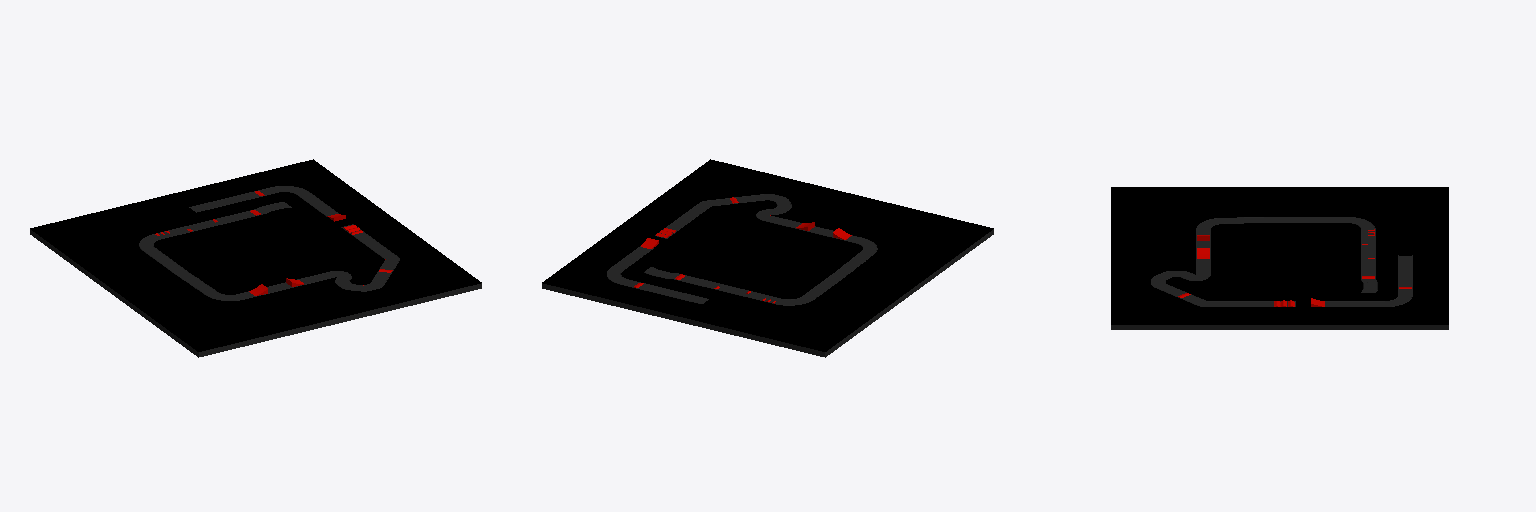
File: track1.obj
The picture shows the model from 3 angles: view 1: azimuth 30°, elevation 25°; view 2: azimuth 150°, elevation 25°; view 3: azimuth 270°, elevation 25°; orthographic projection.
Visible parts, largest first — view 1: LevelMesh_Level_Mesh; view 2: LevelMesh_Level_Mesh; view 3: LevelMesh_Level_Mesh.
Boxes of the visible parts, x1,y1,x2,y2 form: LevelMesh_Level_Mesh: [30, 159, 481, 357]; LevelMesh_Level_Mesh: [542, 159, 993, 357]; LevelMesh_Level_Mesh: [1111, 187, 1448, 329].
Bounding box in the file's own units: 16.79 × 0.5879 × 17.32.